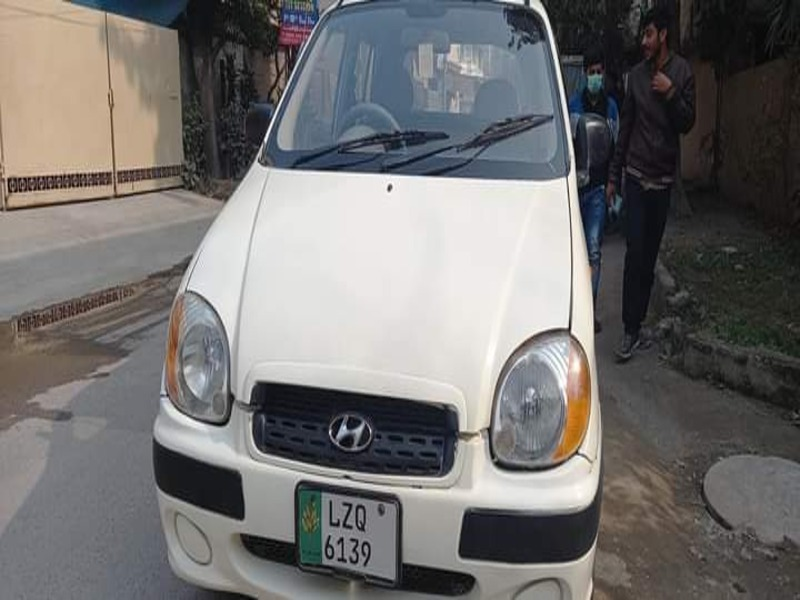License Plate: (287, 480, 402, 585)
